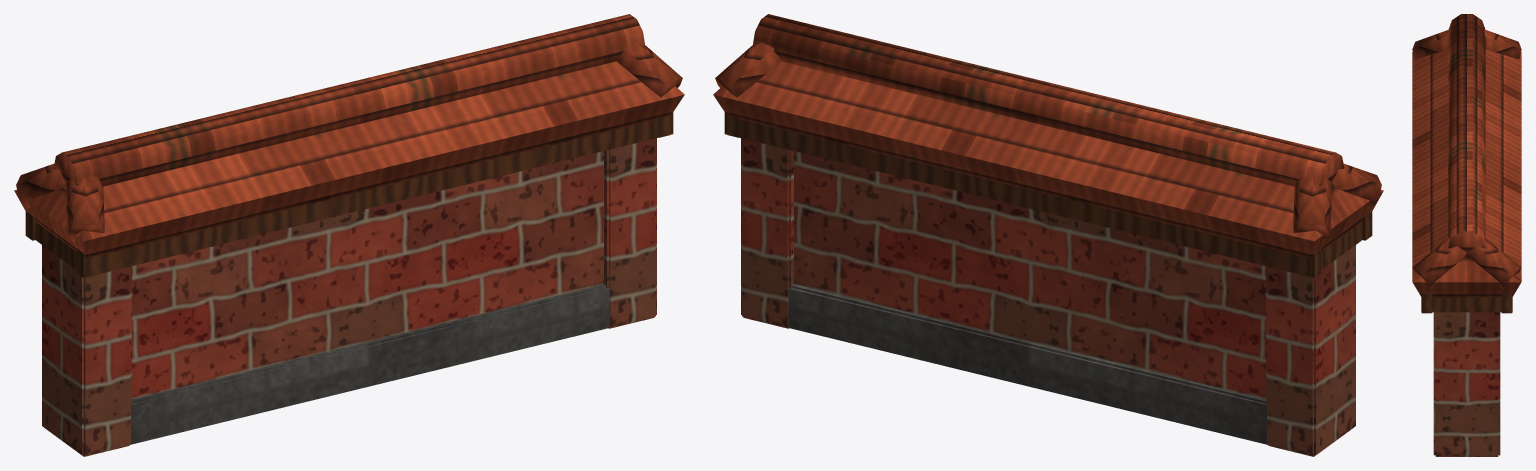
The model's file is veli_kayyala_wall.glb.
3 renders of one model, left to right at view 1: azimuth 30°, elevation 25°; view 2: azimuth 150°, elevation 25°; view 3: azimuth 270°, elevation 25°, orthographic. The views are drawn at different scales.
Visible parts, largest first — view 1: veli_kayyala_wall; view 2: veli_kayyala_wall; view 3: veli_kayyala_wall.
Part boxes in pixels (box(x1,y1,x2,y2)): veli_kayyala_wall: box(14, 14, 684, 456); veli_kayyala_wall: box(713, 14, 1383, 456); veli_kayyala_wall: box(1412, 14, 1521, 456).
Size of the model in its own units: 4.16 by 1.86 by 0.821.
4 materials, 4 textured.
